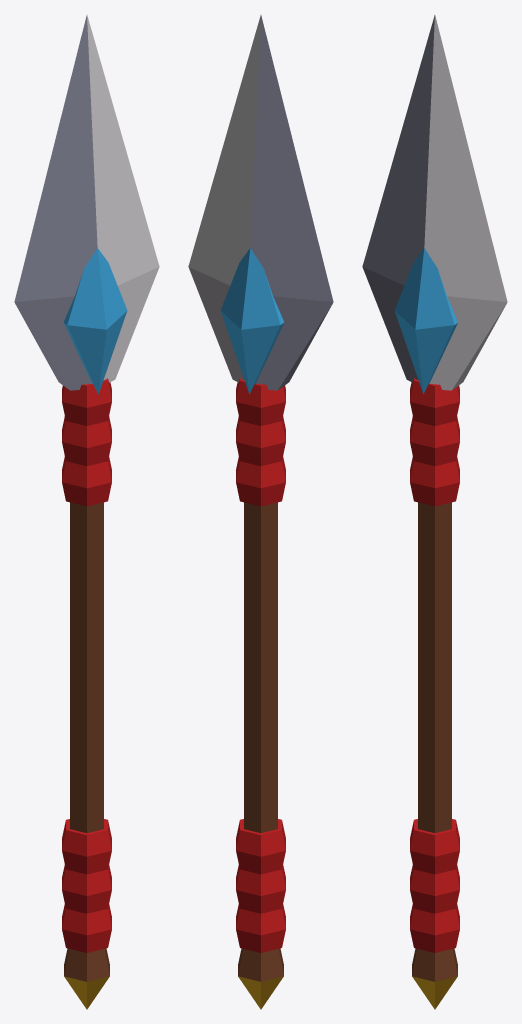
File: spear.glb
3 renders of one model, left to right at view 1: azimuth 30°, elevation 25°; view 2: azimuth 150°, elevation 25°; view 3: azimuth 330°, elevation 25°, orthographic.
Parts seen in each view (by area): view 1: spear; view 2: spear; view 3: spear.
Boxes of the visible parts, x1,y1,x2,y2 form: spear: [14, 15, 159, 1009]; spear: [188, 15, 333, 1009]; spear: [362, 15, 507, 1009].
Bounding box in the file's own units: 0.29 × 1.9 × 0.136.
